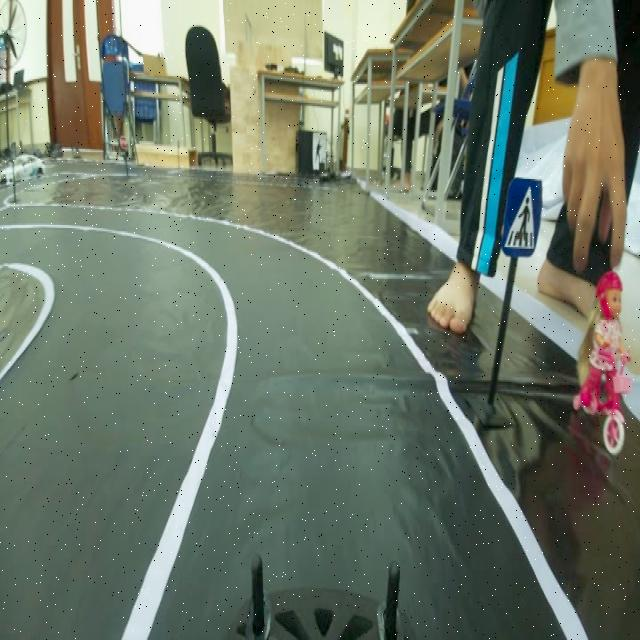crosswalk: (504, 178, 543, 256)
pedestrian: (571, 272, 633, 461)
